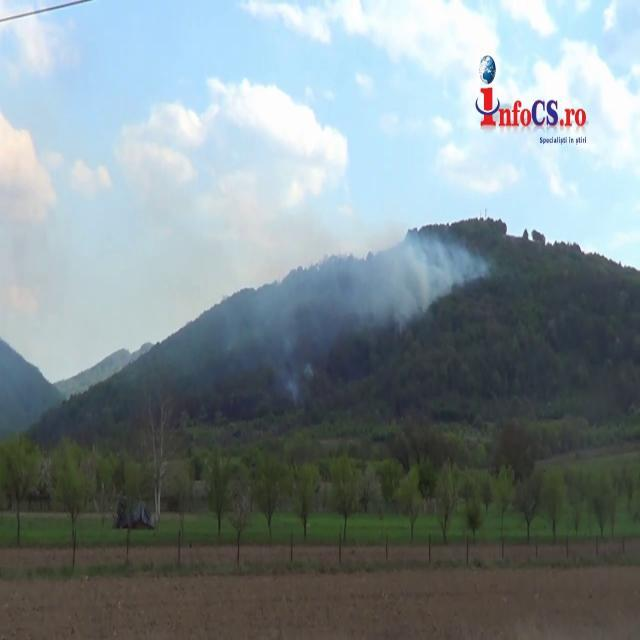Smoke: (239, 190, 486, 344)
